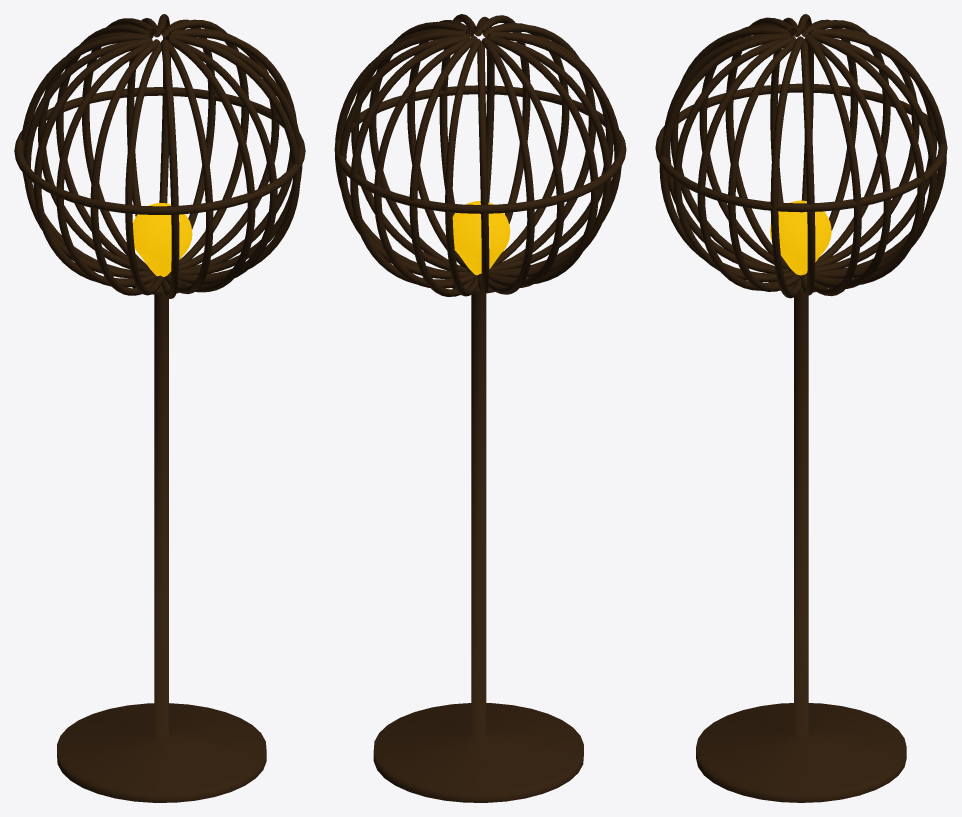
File: lampe.gltf
3 views of the same model, side by side, from view 1: azimuth 30°, elevation 25°; view 2: azimuth 150°, elevation 25°; view 3: azimuth 270°, elevation 25° (orthographic).
Parts seen in each view (by area): view 1: Cylinder.009; view 2: Cylinder.009; view 3: Cylinder.009.
Boxes of the visible parts, left/top/right/bottom form: Cylinder.009: left=14, top=14, right=305, bottom=802; Cylinder.009: left=334, top=14, right=626, bottom=802; Cylinder.009: left=655, top=14, right=947, bottom=802.
Size of the model in its own units: 0.2241 by 0.6165 by 0.2241.
